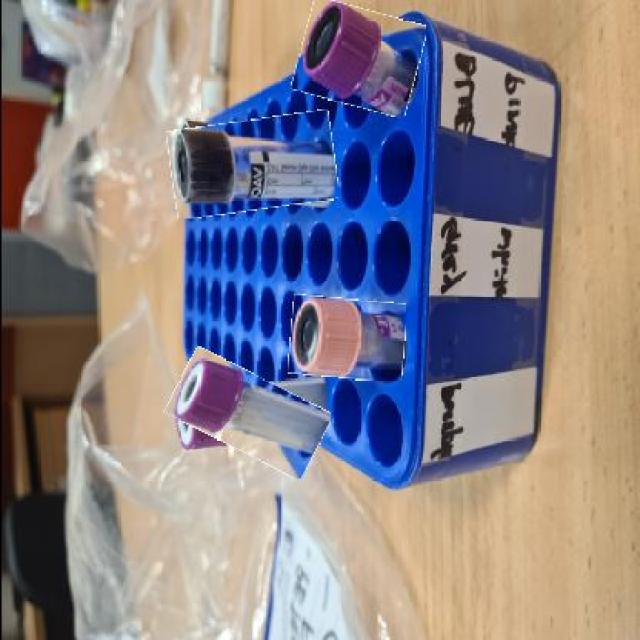Experimental-tube: (168, 114, 337, 214), (166, 361, 328, 465), (294, 2, 420, 112), (288, 296, 404, 379)
